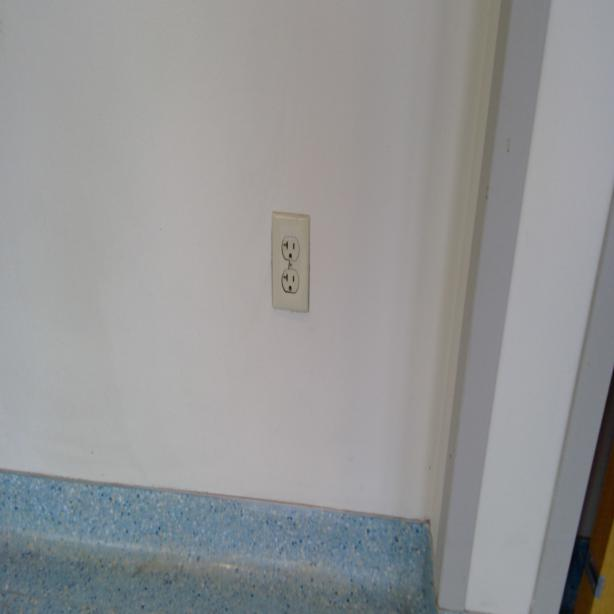typeb: (281, 268, 300, 296), (282, 234, 300, 262)
